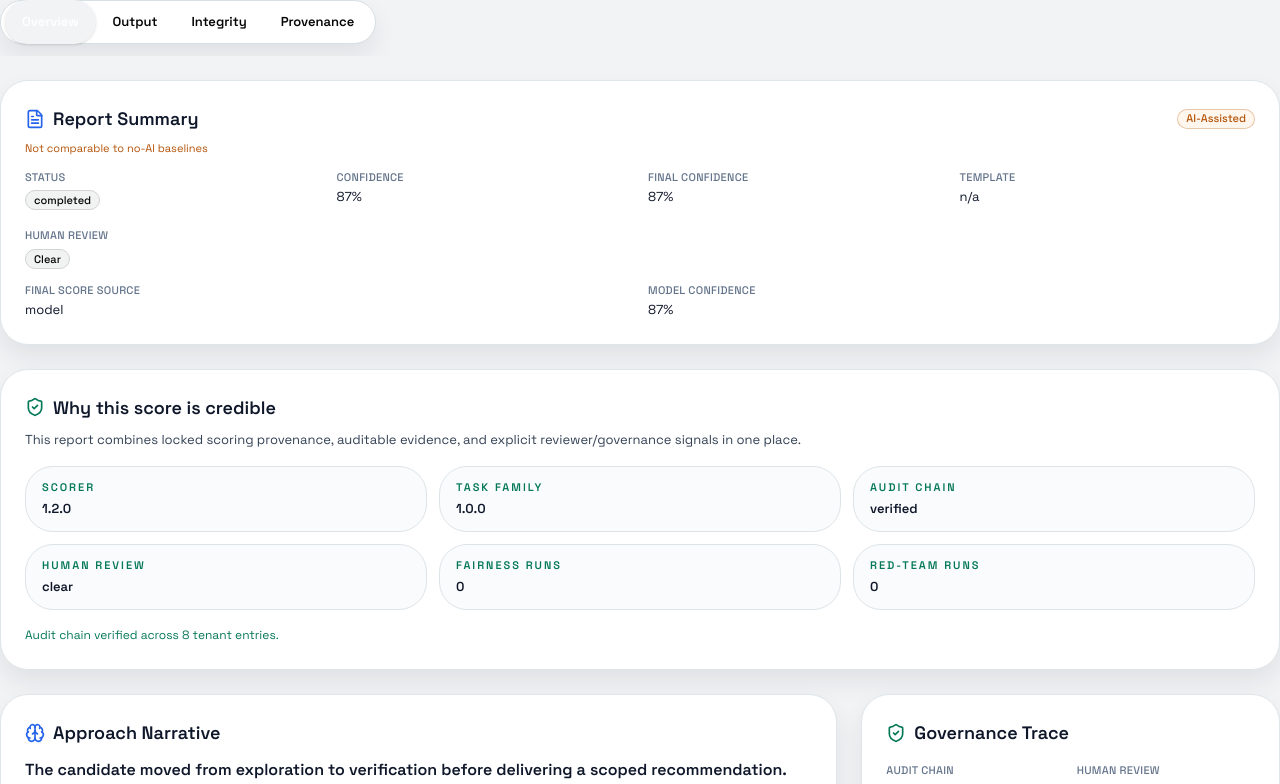
Test: ReportReviewConsole tabs › shows empty state when no final response on Output tab
Click the tab "Output". click: (135, 22)
box: [96,0,174,44]
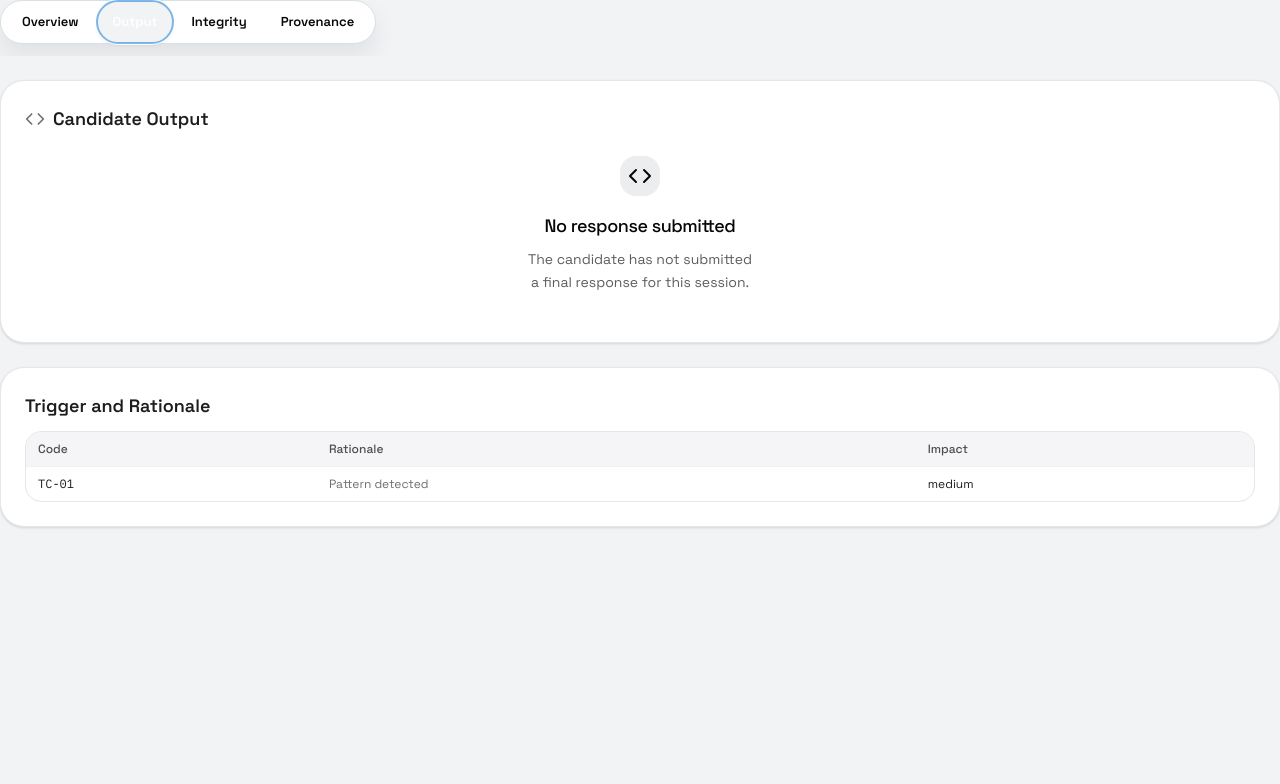
Expected: the text "No response submitted" is shown, [544,212,735,240]
